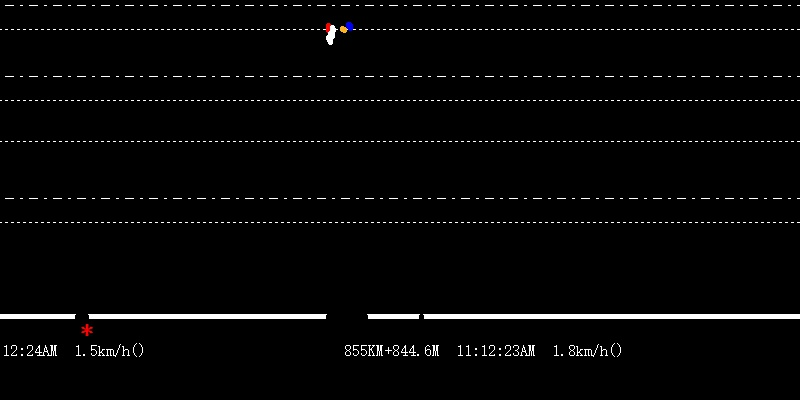face_s: (321, 21, 336, 44)
star: (80, 321, 95, 337)
